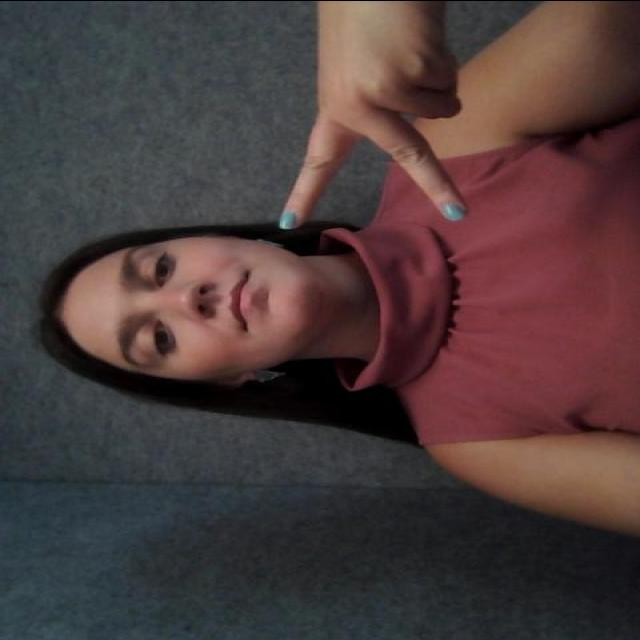Scissors: (252, 0, 542, 280)
